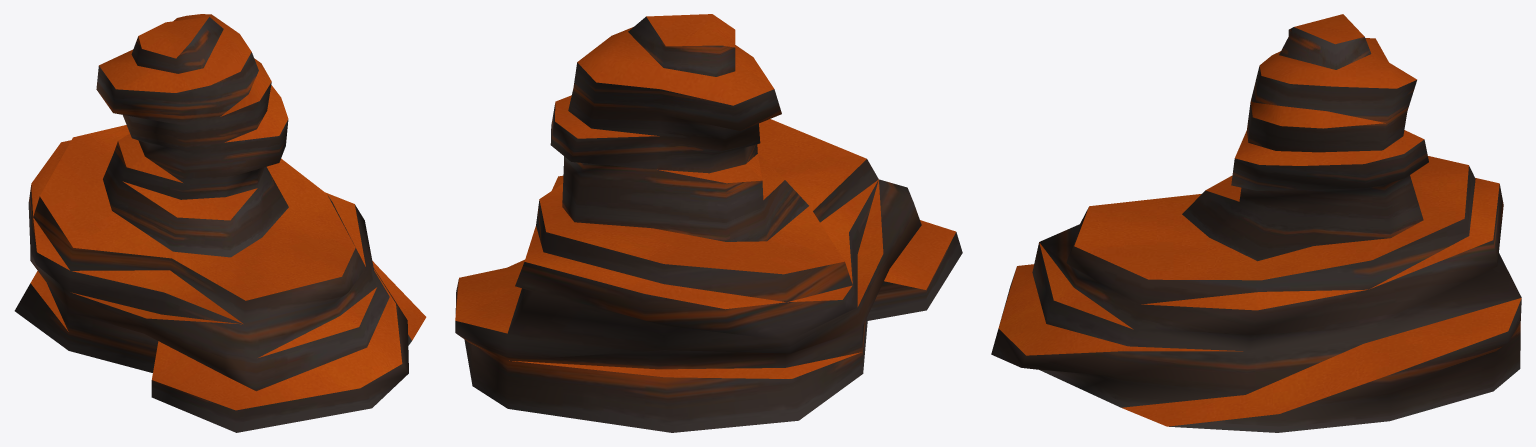
The model's file is Rock_pillar02.FBX.
3 views of the same model, side by side, from view 1: azimuth 30°, elevation 25°; view 2: azimuth 150°, elevation 25°; view 3: azimuth 270°, elevation 25° (orthographic). The views are drawn at different scales.
Parts seen in each view (by area): view 1: Rock_pillar02; view 2: Rock_pillar02; view 3: Rock_pillar02.
Part boxes in pixels (box(x1,y1,x2,y2)): Rock_pillar02: box(14, 14, 426, 432); Rock_pillar02: box(455, 14, 962, 432); Rock_pillar02: box(991, 14, 1521, 432).
Size of the model in its own units: 83.41 by 68.5 by 107.
